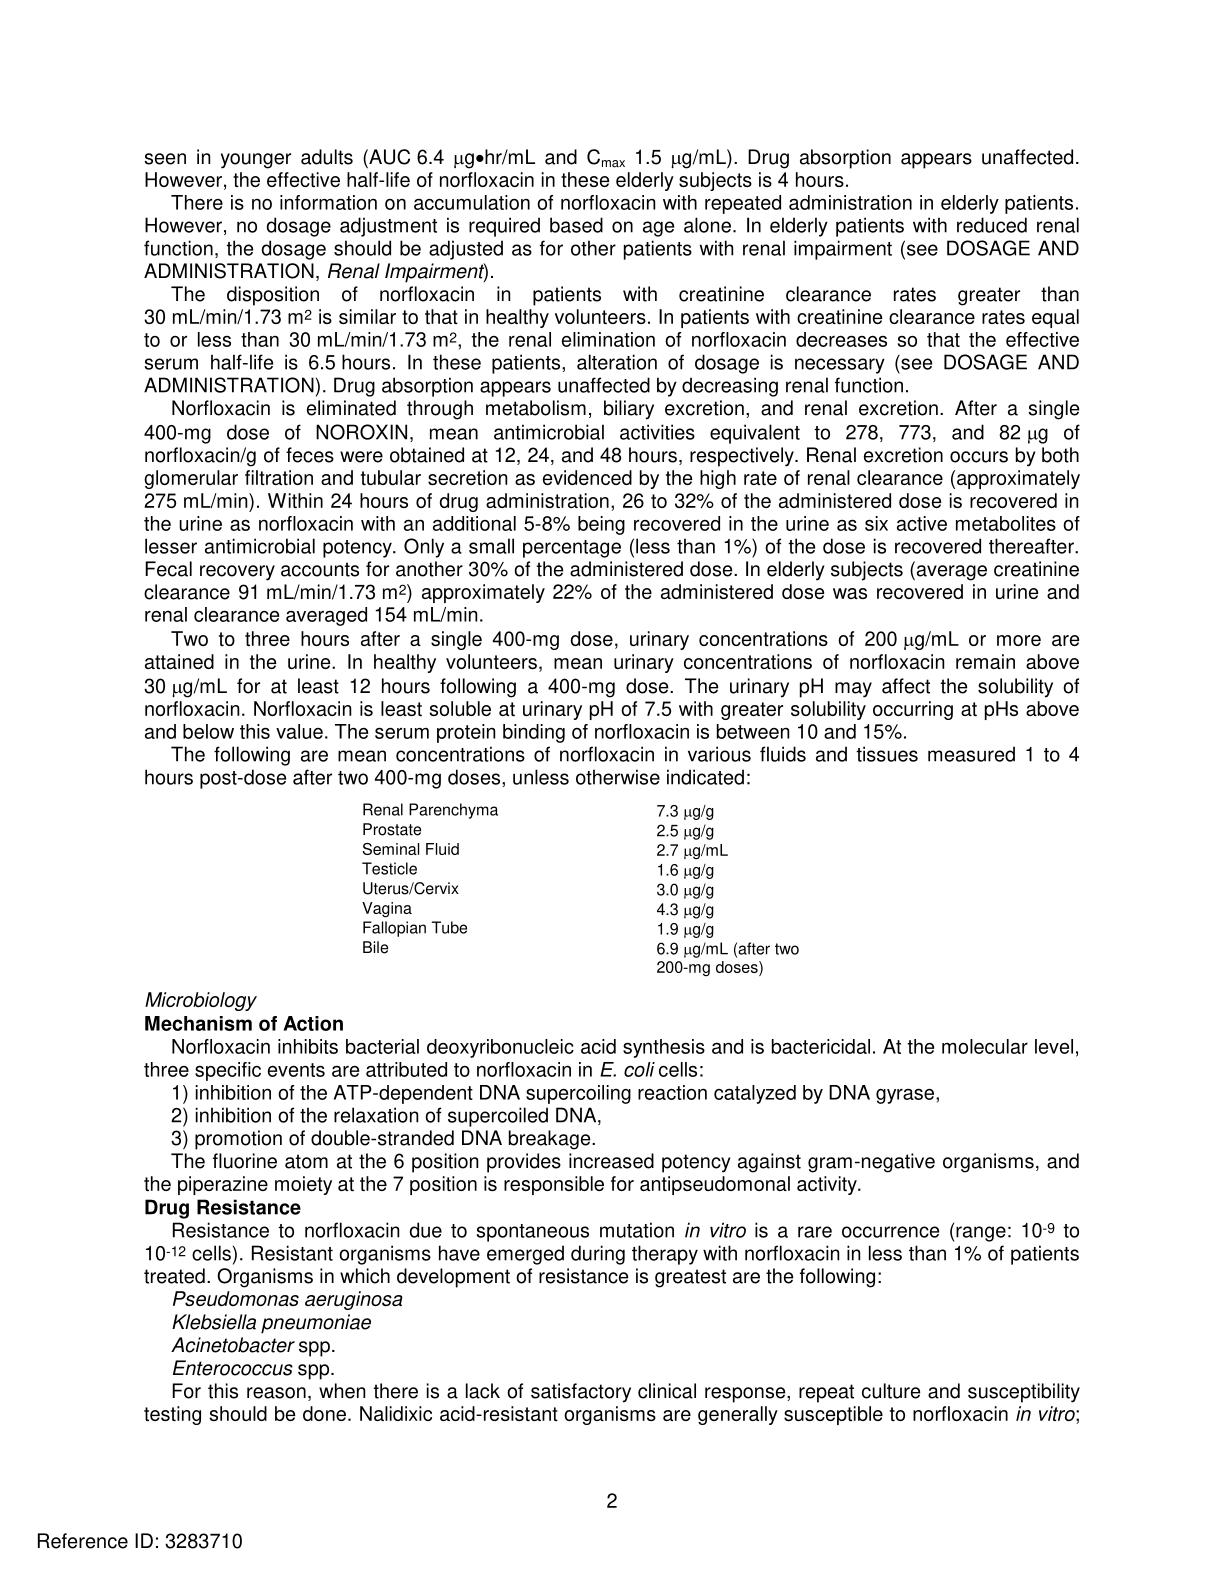nolines: (357, 800, 804, 978)
